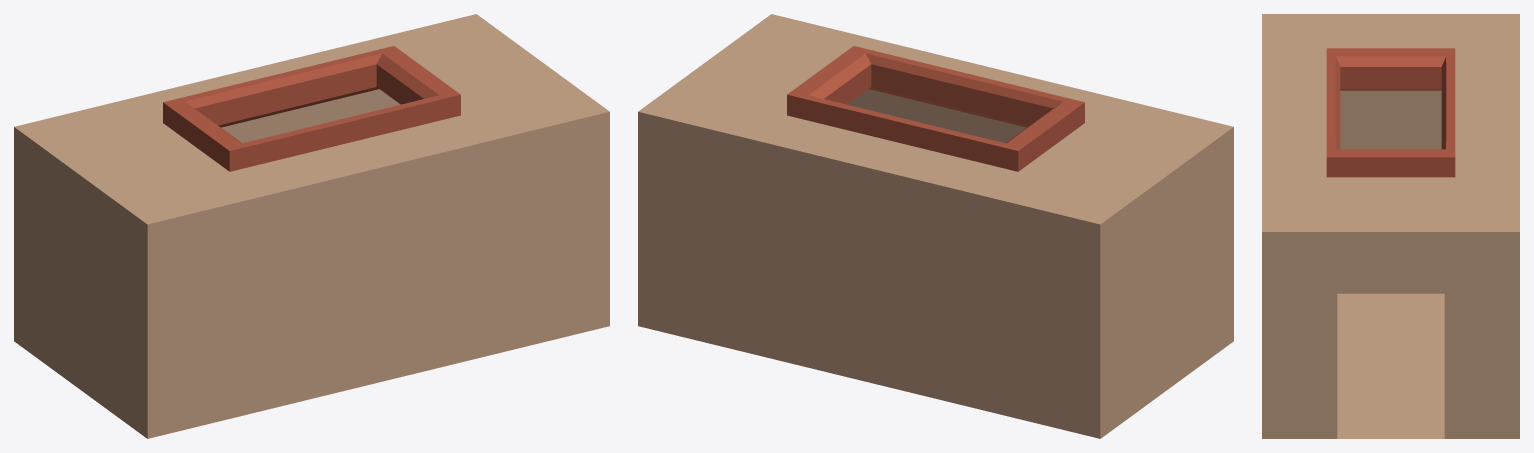
File: StartRoom.fbx
3 renders of one model, left to right at view 1: azimuth 30°, elevation 25°; view 2: azimuth 150°, elevation 25°; view 3: azimuth 270°, elevation 25°, orthographic. The views are drawn at different scales.
Parts seen in each view (by area): view 1: Cube; view 2: Cube; view 3: Cube.
Part boxes in pixels (box(x1,y1,x2,y2)): Cube: box(14, 14, 609, 438); Cube: box(638, 14, 1233, 438); Cube: box(1262, 14, 1519, 438).
Bounding box in the file's own units: 12000 × 5833 × 6000.
